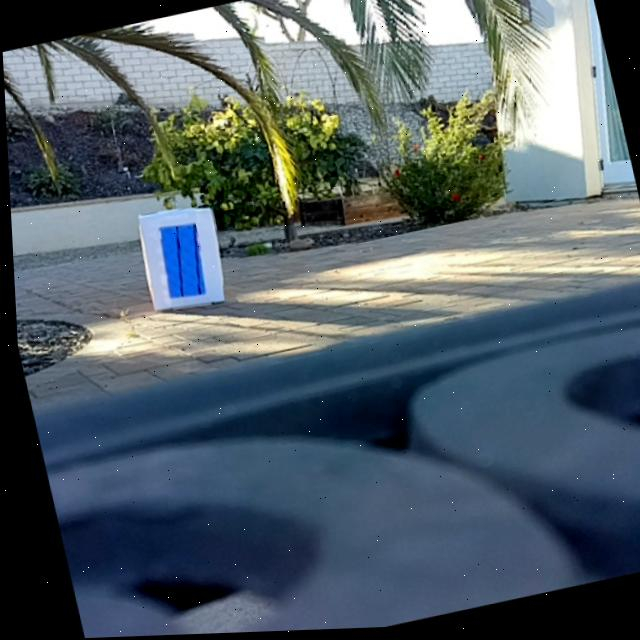led: (152, 220, 206, 302)
